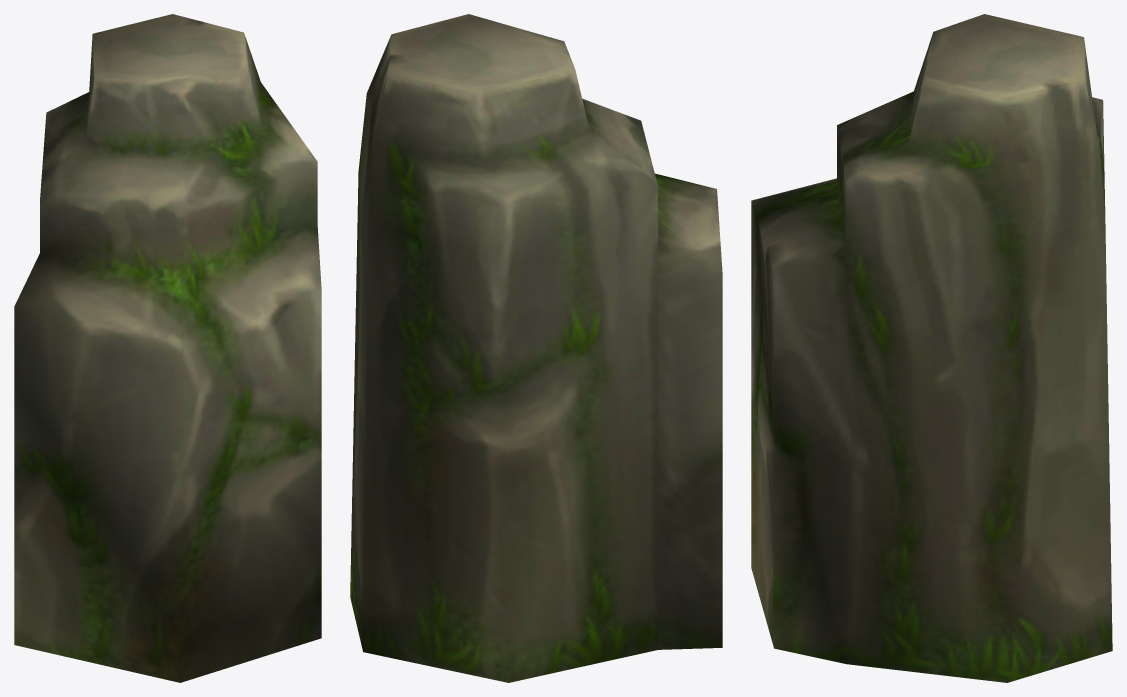
File: RockFormation_4_5 (17).fbx
3 views of the same model, side by side, from view 1: azimuth 30°, elevation 25°; view 2: azimuth 150°, elevation 25°; view 3: azimuth 270°, elevation 25° (orthographic). The views are drawn at different scales.
Visible parts, largest first — view 1: RockFormation_4_5 (17); view 2: RockFormation_4_5 (17); view 3: RockFormation_4_5 (17).
Part boxes in pixels (x1=…): RockFormation_4_5 (17): x1=14, y1=14, x2=321, y2=682; RockFormation_4_5 (17): x1=350, y1=14, x2=722, y2=682; RockFormation_4_5 (17): x1=751, y1=14, x2=1112, y2=682.
Size of the model in its own units: 932 by 1536 by 889.
Materials: 1 (1 with a texture image).
